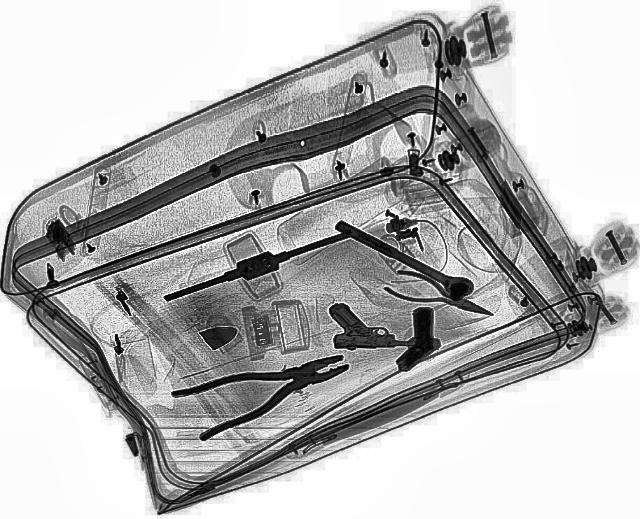Gun: (363, 302, 463, 374), (327, 304, 437, 348)
Pliers: (167, 334, 363, 441), (380, 266, 502, 328)
